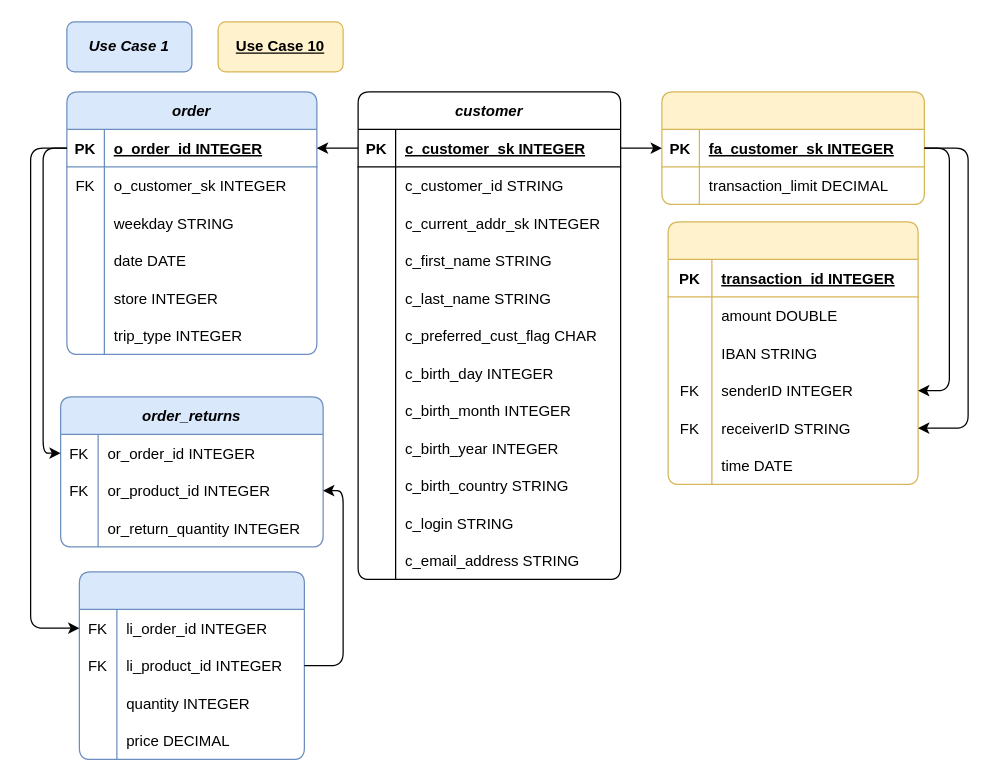
Some shapes in this 1000 by 781 pixel diagram are drawn without their labels. The shapes that lost their labels are listed below. From the top down, each one's box as (x1, y1, x2, y2) in pixels, then its label:
(661, 91, 924, 204): financial_account
(667, 221, 918, 484): financial_transactions
(78, 571, 304, 759): lineitem
